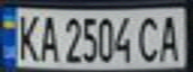0: (97, 14, 118, 63)
2: (60, 12, 81, 64)
4: (112, 12, 136, 63)
5: (78, 14, 100, 63)
A: (154, 11, 187, 63), (36, 11, 60, 63)
C: (133, 12, 163, 63)
K: (12, 10, 42, 62)
